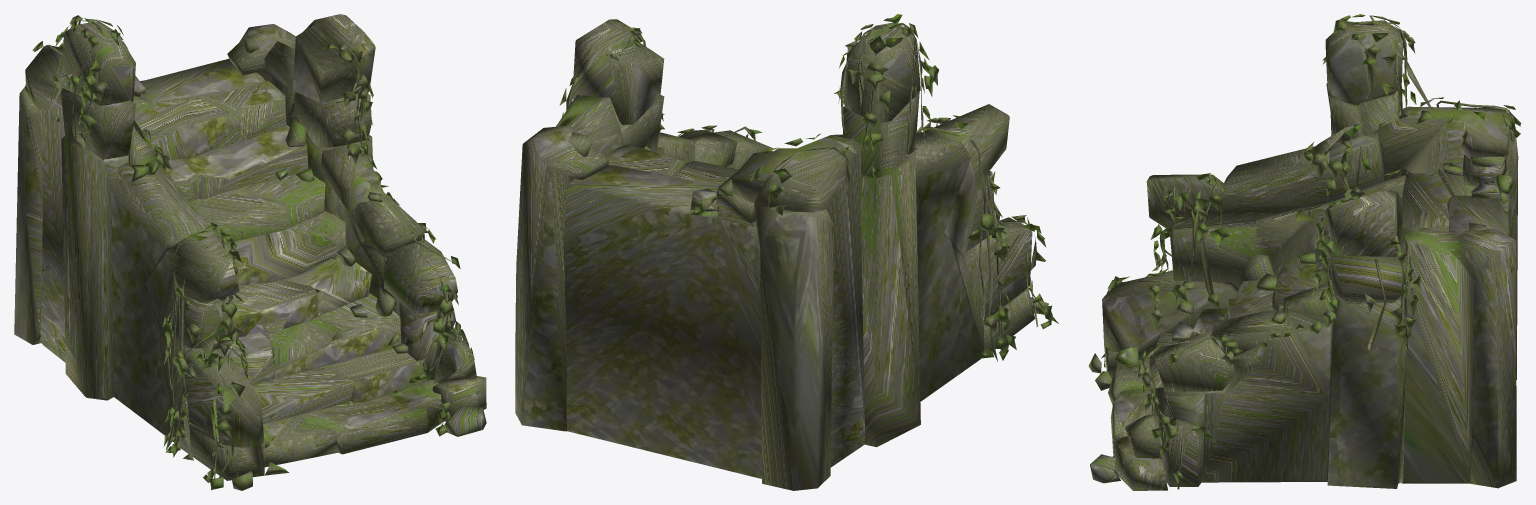
Rendered from ruin_steps.glb.
3 renders of one model, left to right at view 1: azimuth 30°, elevation 25°; view 2: azimuth 150°, elevation 25°; view 3: azimuth 270°, elevation 25°, orthographic. The views are drawn at different scales.
Size of the model in its own units: 0.7641 by 0.8423 by 0.9463.
Materials: 1 (1 with a texture image).
